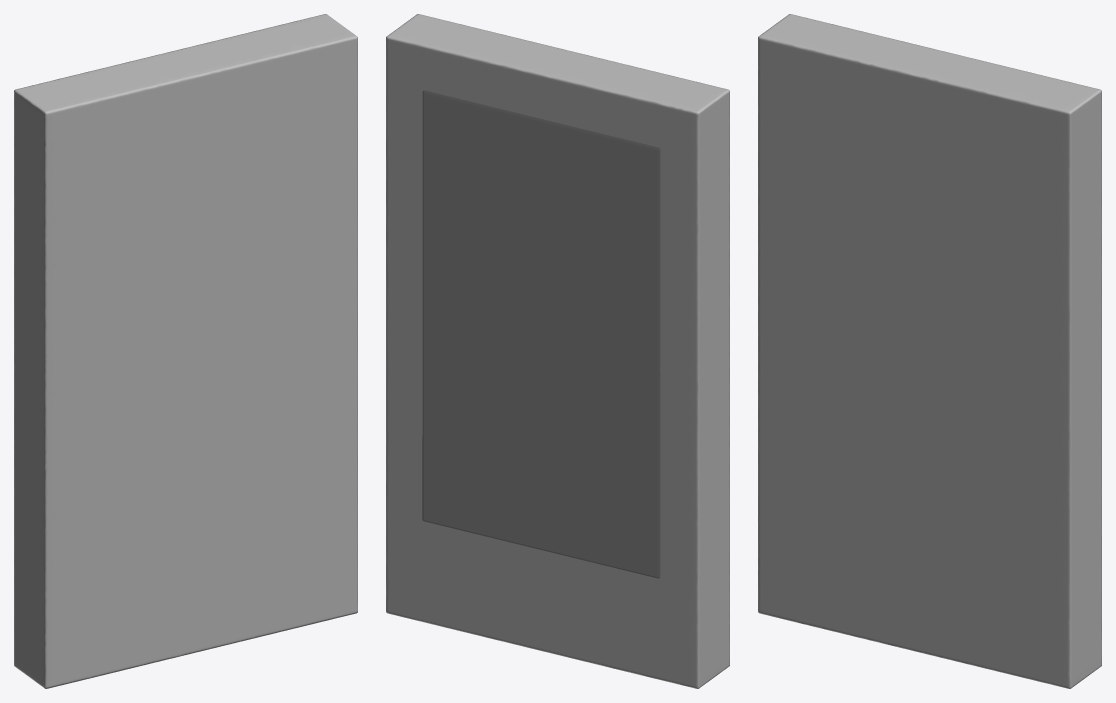
The model's file is emptyFrame.gltf.
3 views of the same model, side by side, from view 1: azimuth 30°, elevation 25°; view 2: azimuth 150°, elevation 25°; view 3: azimuth 330°, elevation 25° (orthographic).
Parts seen in each view (by area): view 1: Area (3); view 2: Area (3), Area (2); view 3: Area (3).
Part boxes in pixels (<box>): Area (3): <box>14,14,357,688</box>; Area (3): <box>386,14,729,688</box>; Area (2): <box>422,90,659,578</box>; Area (3): <box>758,14,1101,688</box>.
Bounding box in the file's own units: 208 × 367 × 38.56.
2 materials, 2 textured.
